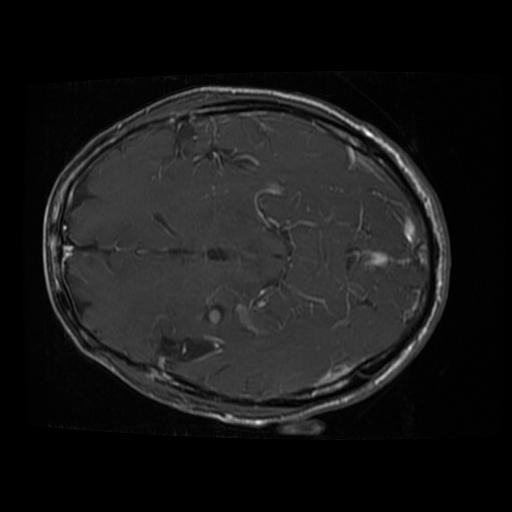glioma: (202, 305, 224, 326)
